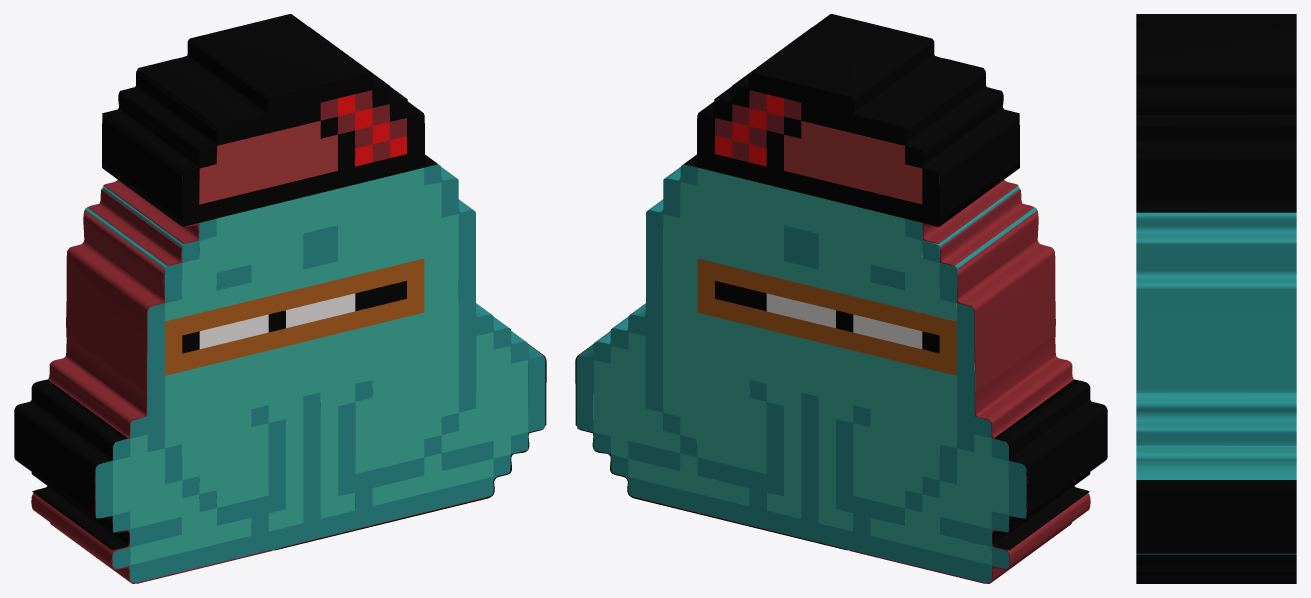
Rendered from Toadz_5575.glb.
3 renders of one model, left to right at view 1: azimuth 30°, elevation 25°; view 2: azimuth 150°, elevation 25°; view 3: azimuth 270°, elevation 25°, orthographic.
Visible parts, largest first — view 1: Curve; view 2: Curve; view 3: Curve.
Part boxes in pixels (x1,y1,x2,y2): Curve: [14, 14, 546, 583]; Curve: [575, 14, 1107, 583]; Curve: [1136, 14, 1296, 583].
Bounding box in the file's own units: 3.25 × 3.12 × 1.
